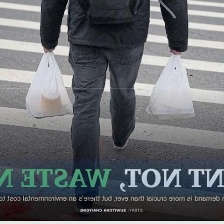plastic_bag: (142, 51, 196, 124), (24, 47, 75, 123)
